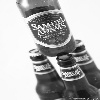beer: (14, 1, 77, 50)
